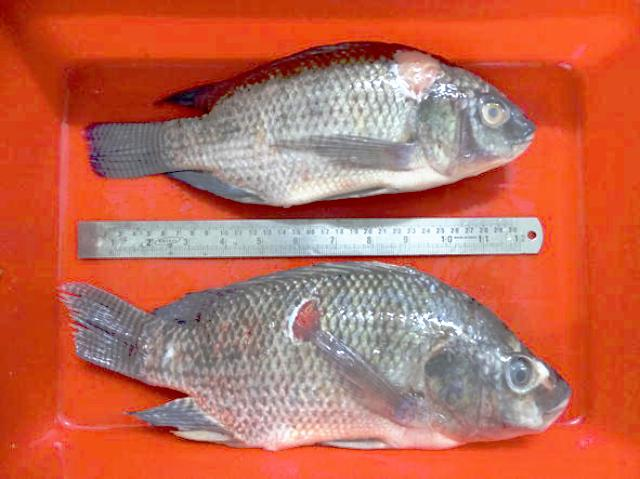Tilapia Lake Virus -TiLV-: (61, 262, 570, 449), (62, 262, 570, 449), (88, 42, 533, 207), (88, 42, 534, 206)
